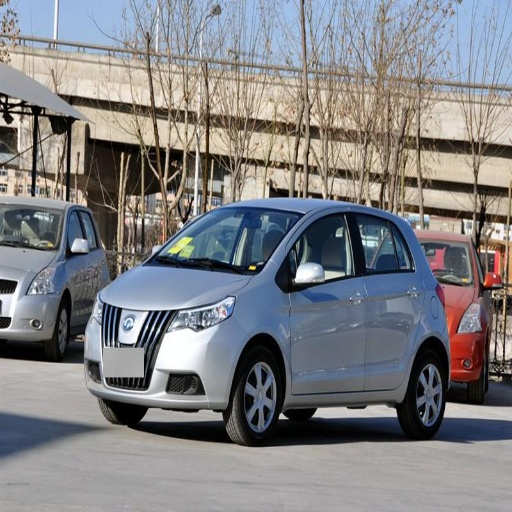front_bumper: (84, 302, 244, 412)
front_glass: (146, 208, 299, 274)
front_left_door: (285, 211, 367, 393)
